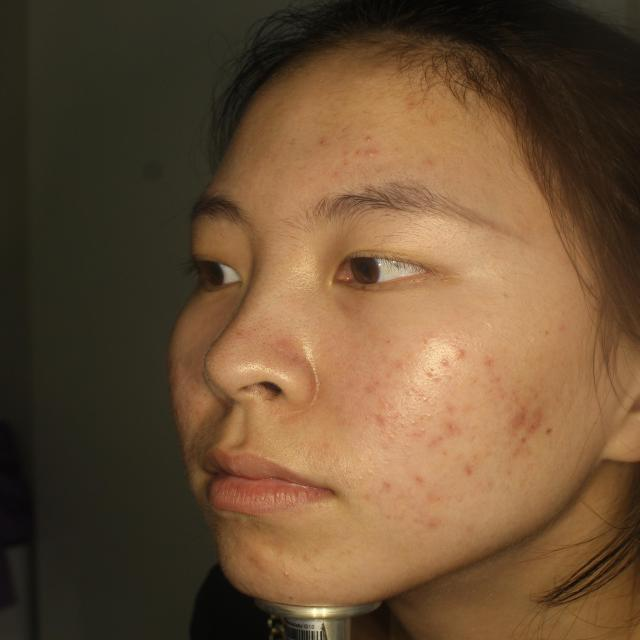acne: (473, 350, 500, 374), (437, 417, 467, 434), (527, 411, 543, 442), (353, 148, 388, 162), (506, 404, 524, 427), (448, 347, 470, 364)
